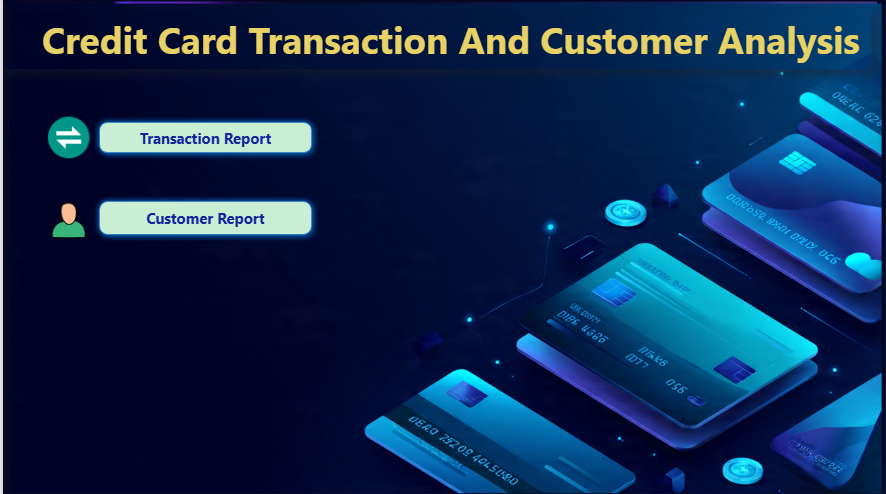

This screenshot's page, from the dashboard's own definition file:
{"tool":"powerbi","page":{"name":"Main Page","canvas":[1280,720],"ordinal":0},"visuals":[{"type":"image","box":[5.8,0,1264.3,708.5],"z":500},{"type":"image","box":[7.2,0,1262.9,720],"z":750},{"type":"textbox","box":[0,43.2,1249.9,85],"z":1000},{"type":"image","box":[18.7,159.8,151.2,82.1],"z":2000},{"type":"image","box":[59,283.7,70.6,72],"z":3000},{"type":"shape","title":"Transation Report","box":[129.6,283.7,324,66.2],"z":3750},{"type":"shape","title":"Transation Report","box":[129.6,169.9,324,61.9],"z":4000}]}

Visuals, with their boxes in screenshot pixels (x1, y1, x2, y2), scaled from the page's 1280x720 canvas onto the 886x494 screenshot:
image: bbox=(4, 0, 879, 486)
image: bbox=(5, 0, 879, 493)
textbox: bbox=(0, 30, 865, 88)
image: bbox=(13, 110, 118, 166)
image: bbox=(41, 195, 90, 244)
"Transation Report" shape: bbox=(90, 195, 314, 240)
"Transation Report" shape: bbox=(90, 117, 314, 159)
